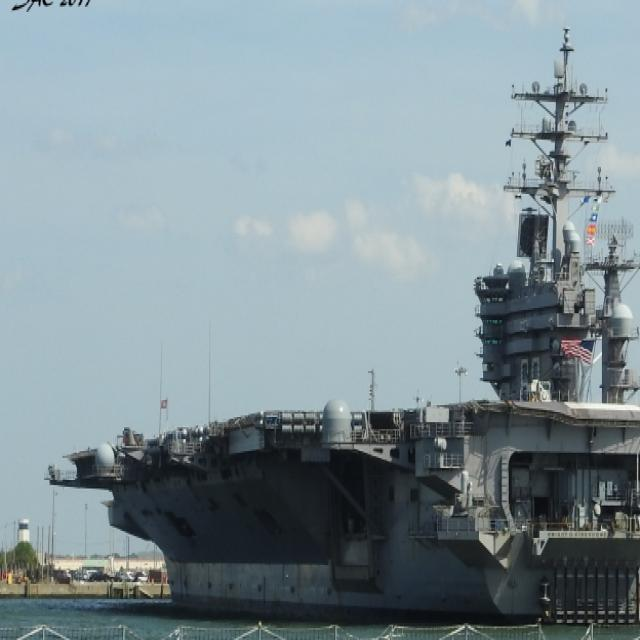Portanaves: (46, 27, 640, 634)
